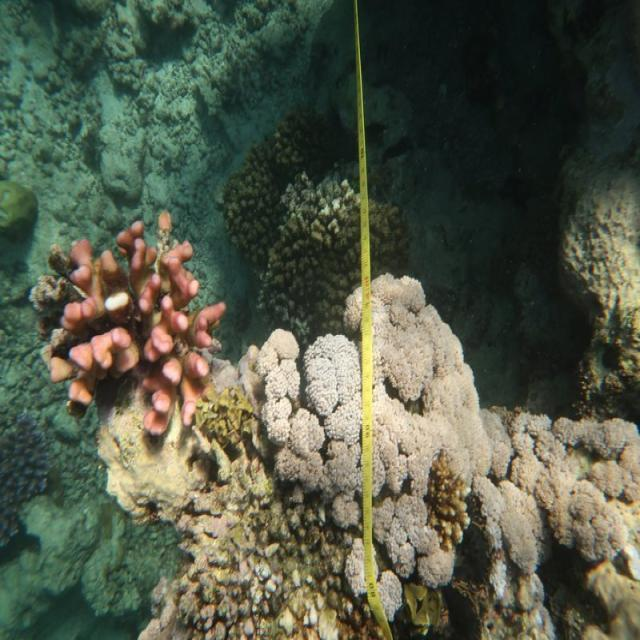Dead Coral: (0, 394, 56, 573)
Healthy Coral: (41, 219, 230, 417)
